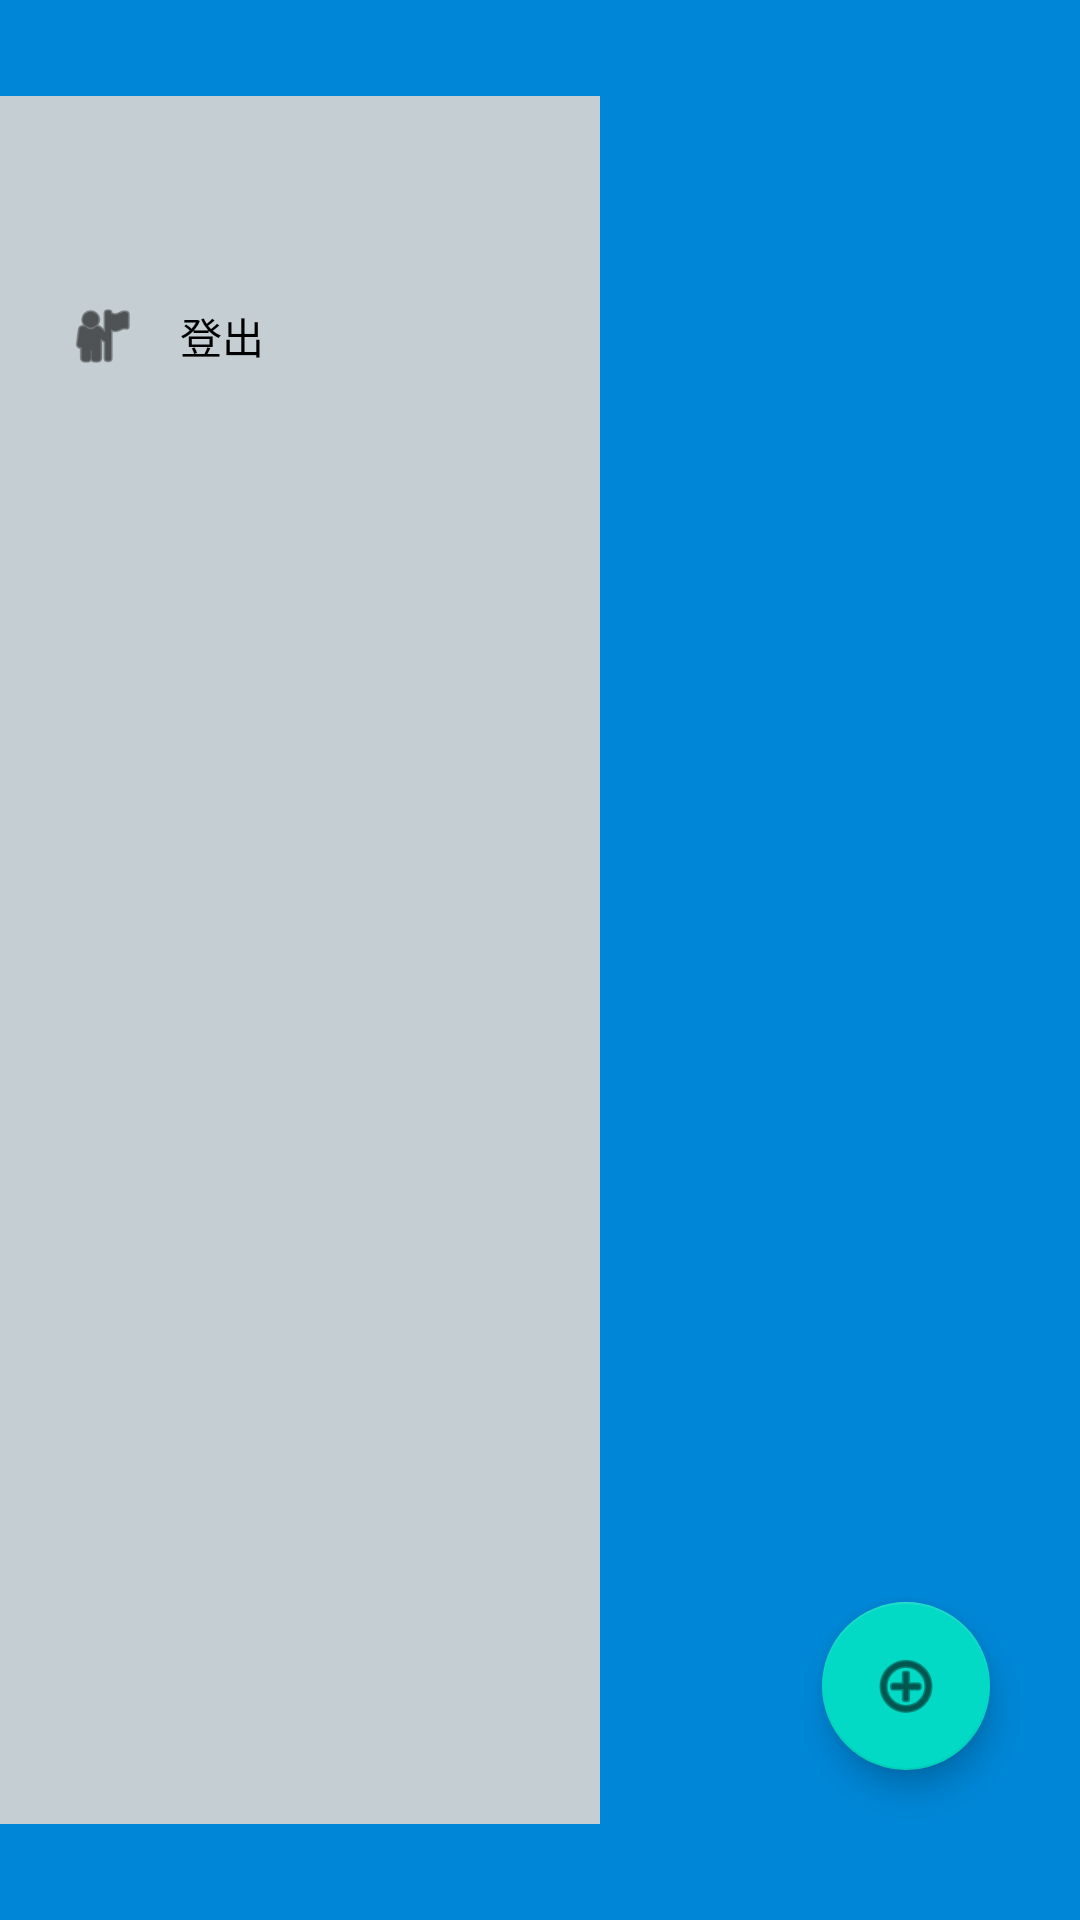

Where icons sit on this 1080w x 1920h app screen, as (x1, y1, x2, y2):
add: (822, 1602, 990, 1770)
